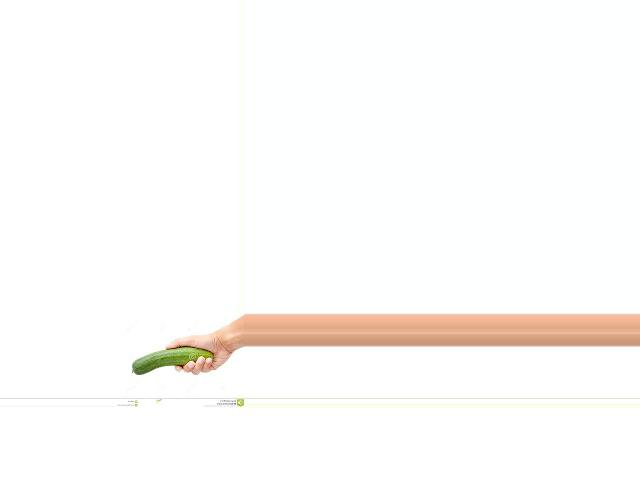cucumber: (131, 348, 213, 375)
